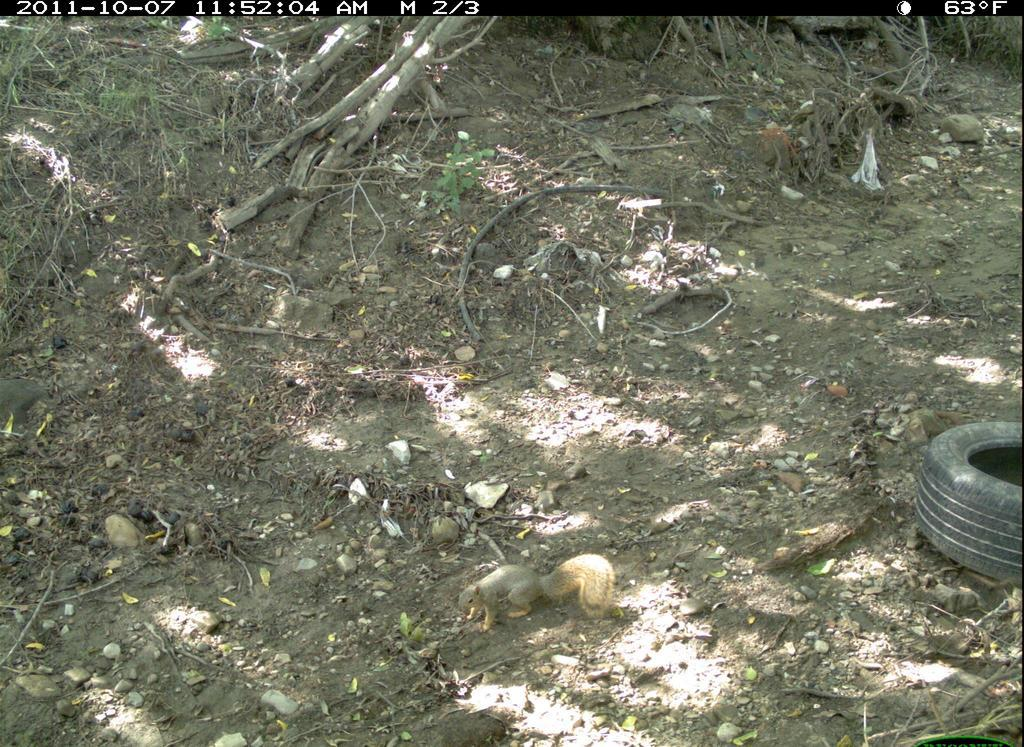squirrel: (455, 550, 622, 638)
